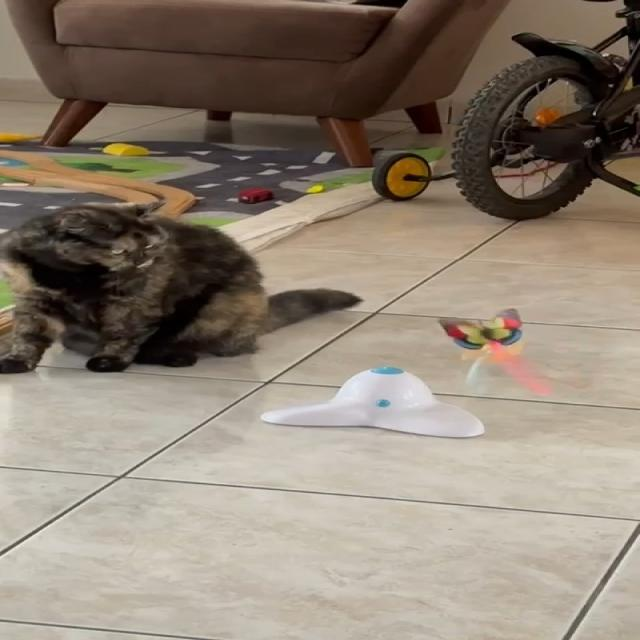authorized: (0, 198, 363, 374)
